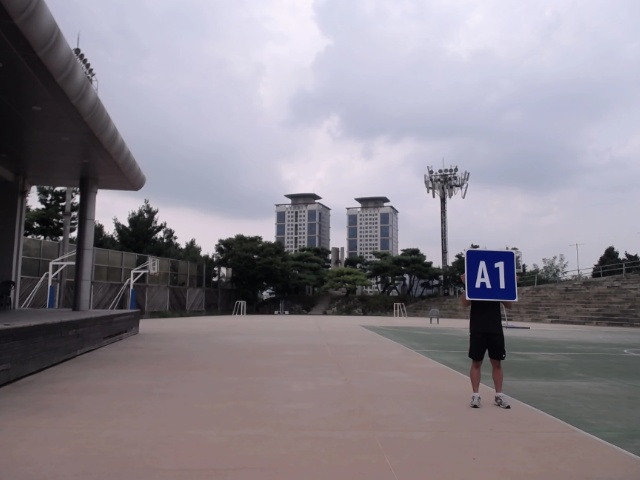delivery_a1: (465, 249, 517, 302)
